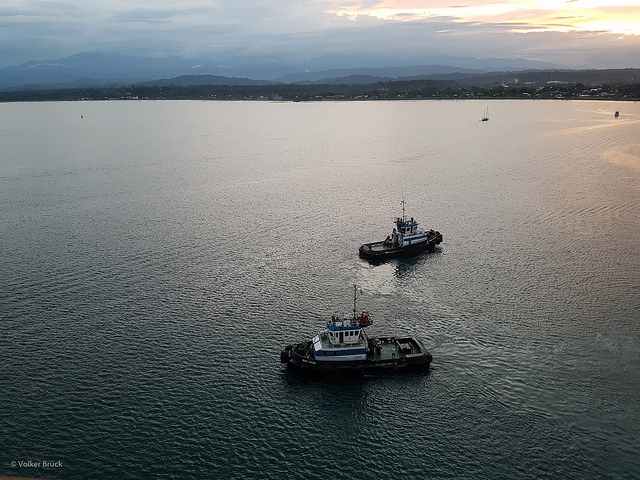tug_boat: (271, 287, 441, 370), (352, 195, 450, 263)
